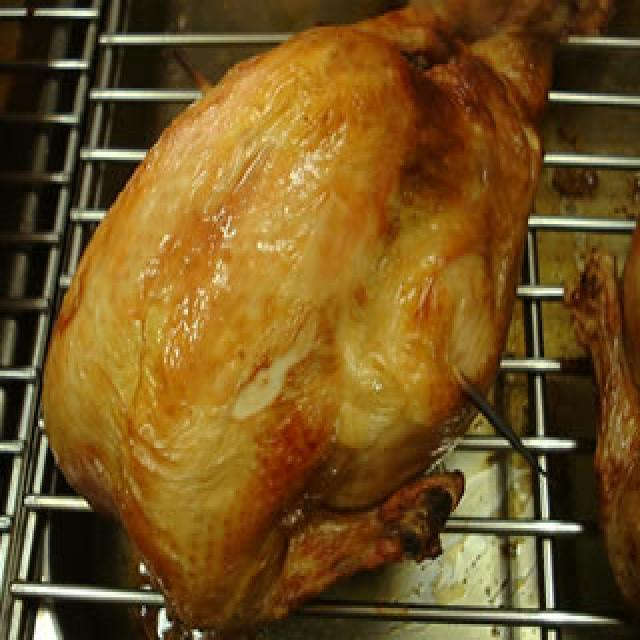Chicken roast: (64, 21, 528, 607)
